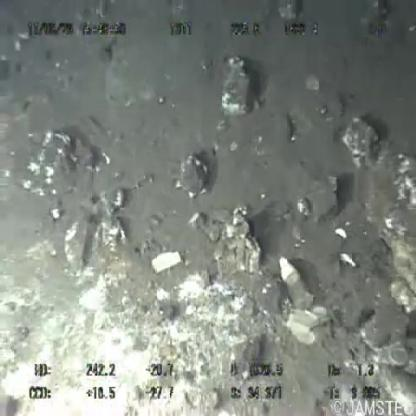Rác: (276, 253, 314, 312)
